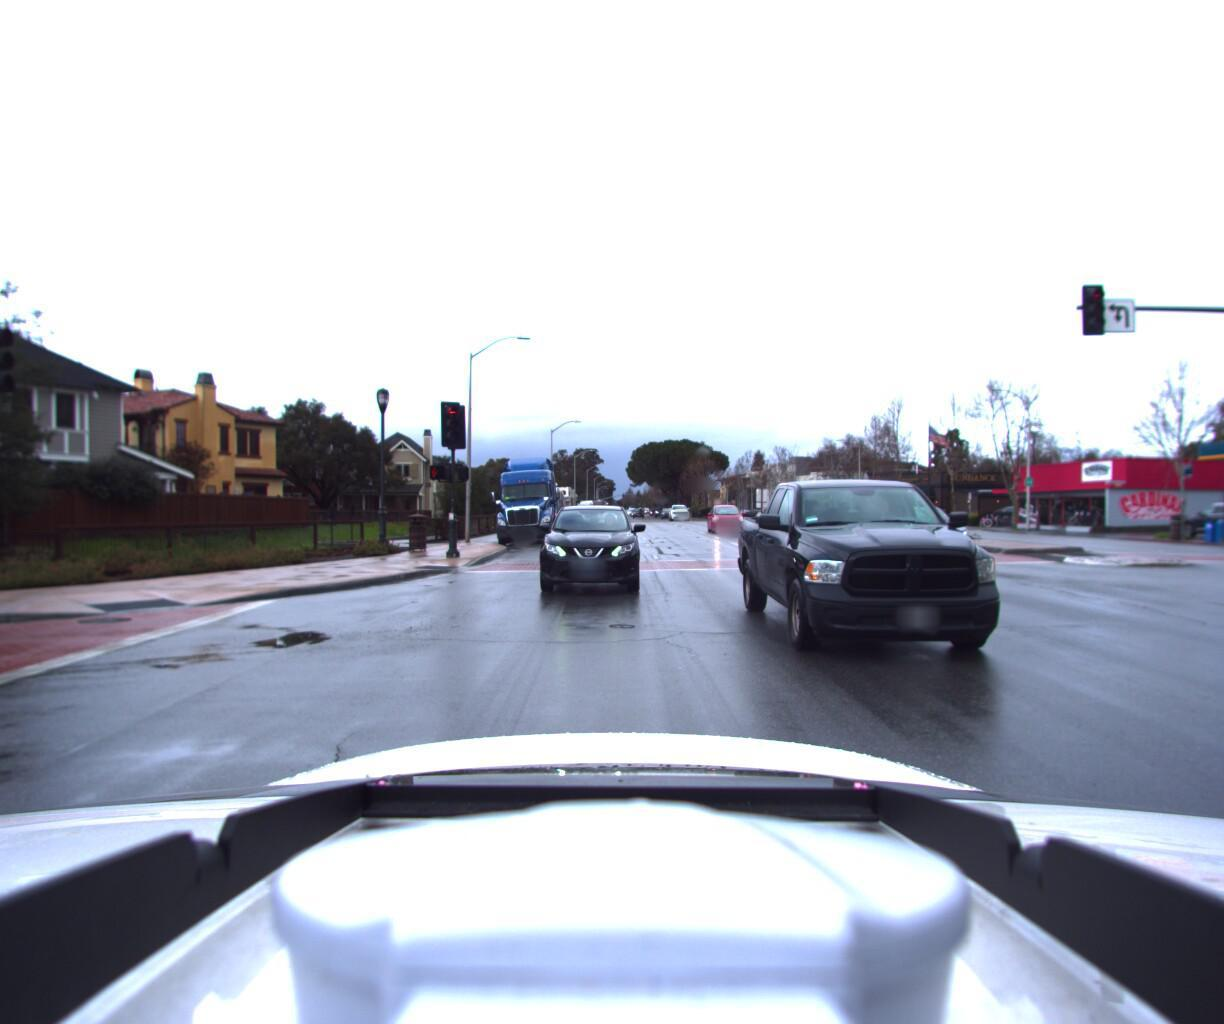car: (746, 457, 1109, 708), (532, 501, 639, 595), (1170, 499, 1224, 538), (705, 504, 753, 537), (668, 505, 691, 526)
other_vehicle: (529, 480, 577, 534)
truck: (486, 449, 562, 546)
